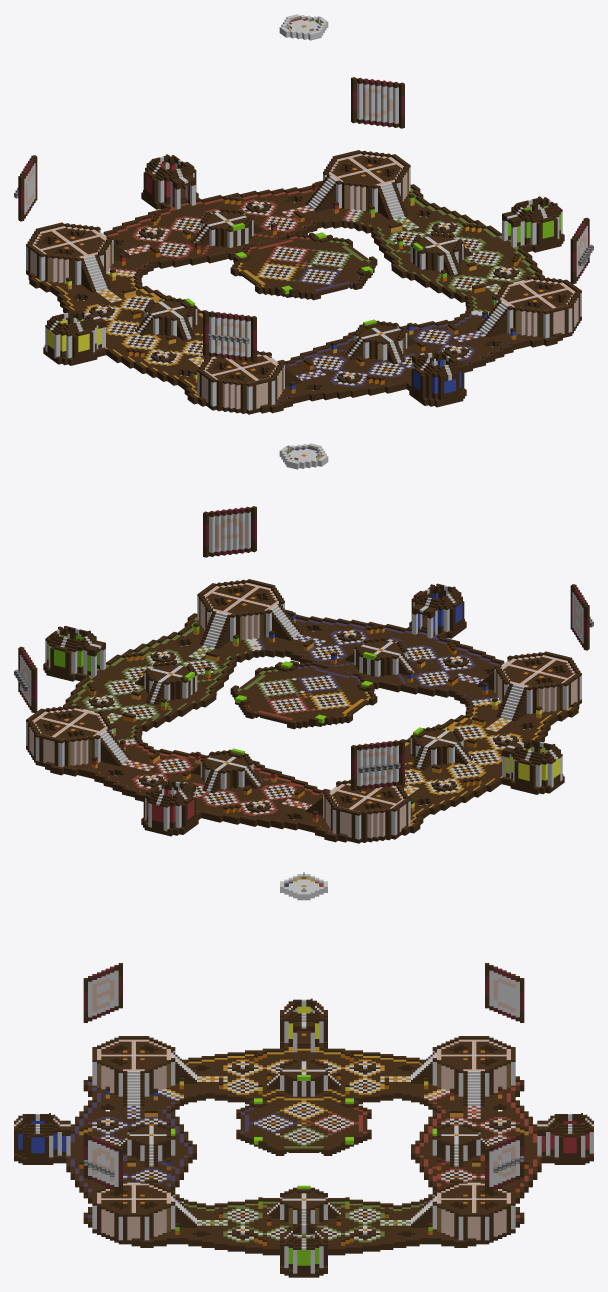
File: minecraft.obj
3 renders of one model, top to bottom at view 1: azimuth 30°, elevation 25°; view 2: azimuth 150°, elevation 25°; view 3: azimuth 270°, elevation 25°, orthographic.
Bounding box in the file's own units: 133 × 70 × 133.
